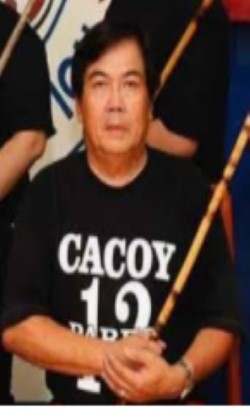baston_e: (148, 119, 246, 325), (144, 7, 213, 112), (4, 1, 38, 59)
